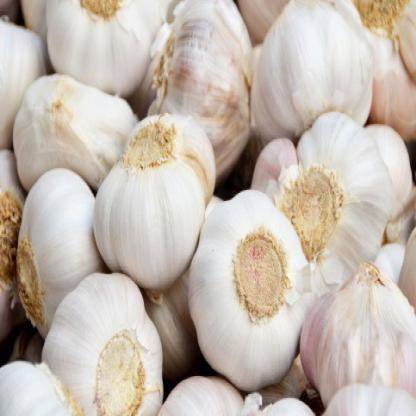garlic: (258, 80, 397, 280), (190, 188, 296, 378), (99, 104, 199, 278), (149, 4, 254, 168), (248, 3, 387, 124), (39, 274, 157, 415), (306, 274, 416, 415), (10, 69, 134, 182), (23, 172, 98, 314)
